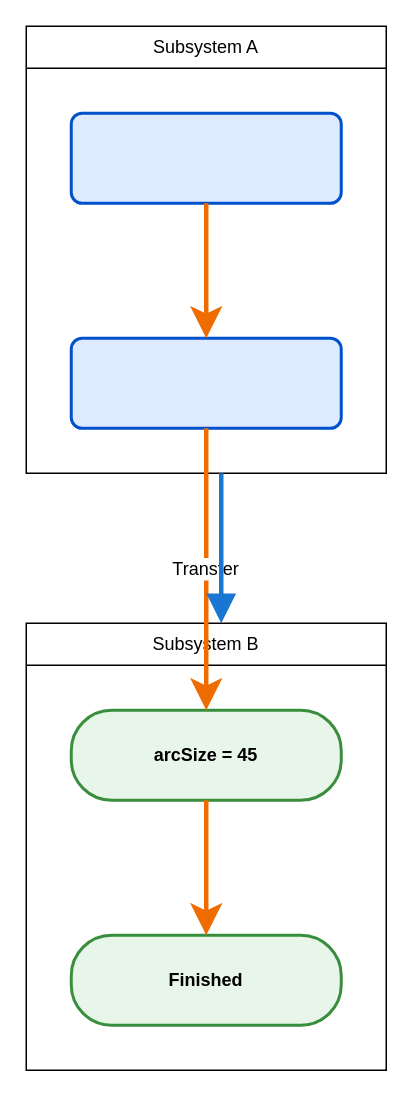
The diagram is 413 pixels wide and 1097 high, and some of its shapes have lost their labels. The centre of each missing label's shape, as x and y in pixels:
Approved: the point at 205,382
arcSize = 12: the point at 205,157
